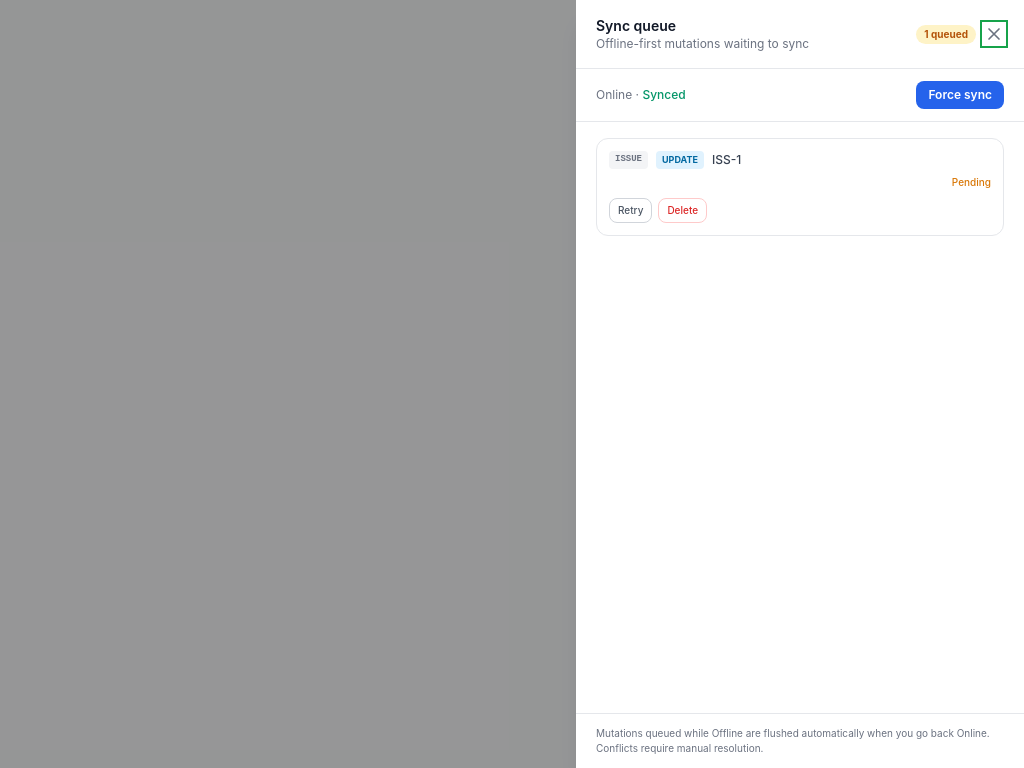
Test: SyncQueueDrawer › removes a pending entry and falls back to the empty state
Click the button "Delete".
click(683, 210)  # box left=658, top=198, right=707, bottom=222
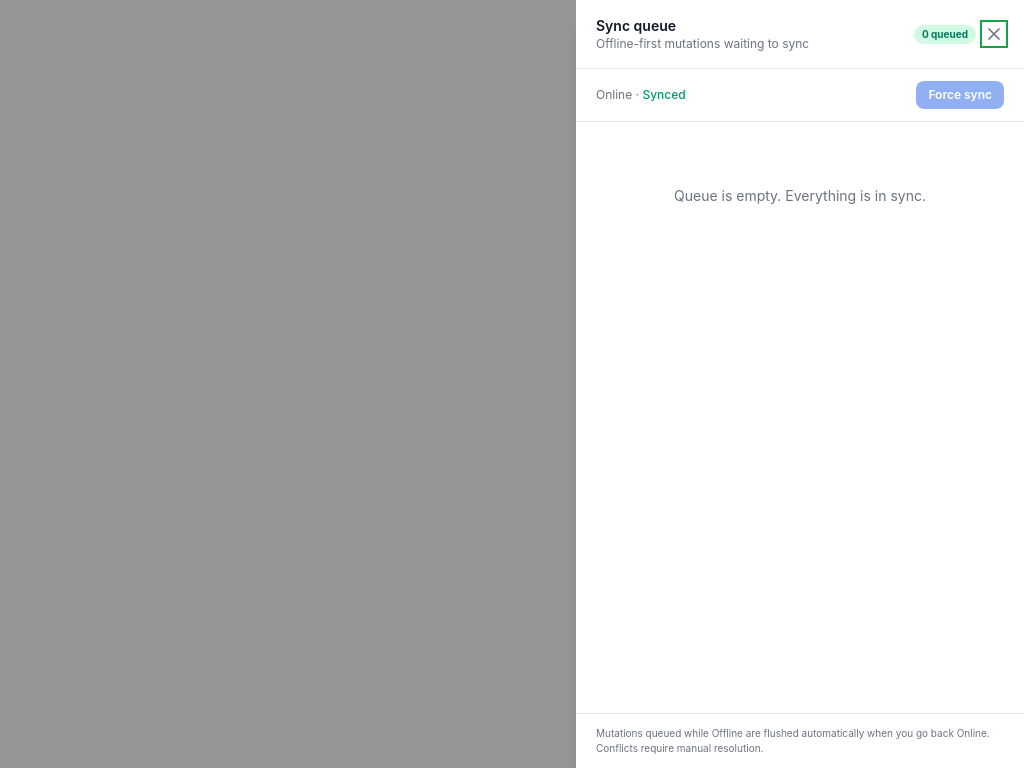
Expected: the text "Queue is empty. Everything is in sync." is shown, left=674, top=187, right=926, bottom=204
